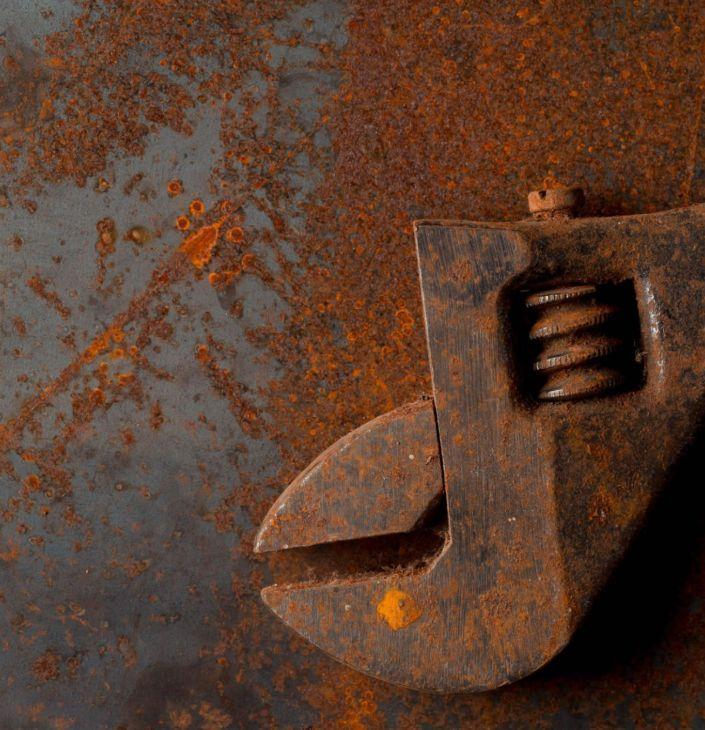metal: (249, 164, 705, 705)
